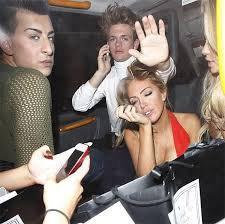Drunk: (18, 11, 55, 76), (125, 77, 161, 121), (109, 26, 132, 60)
